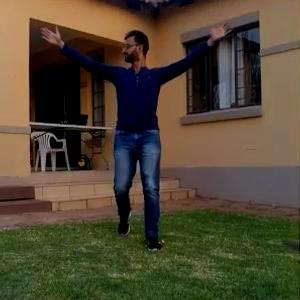takeoff: (43, 24, 227, 225)
